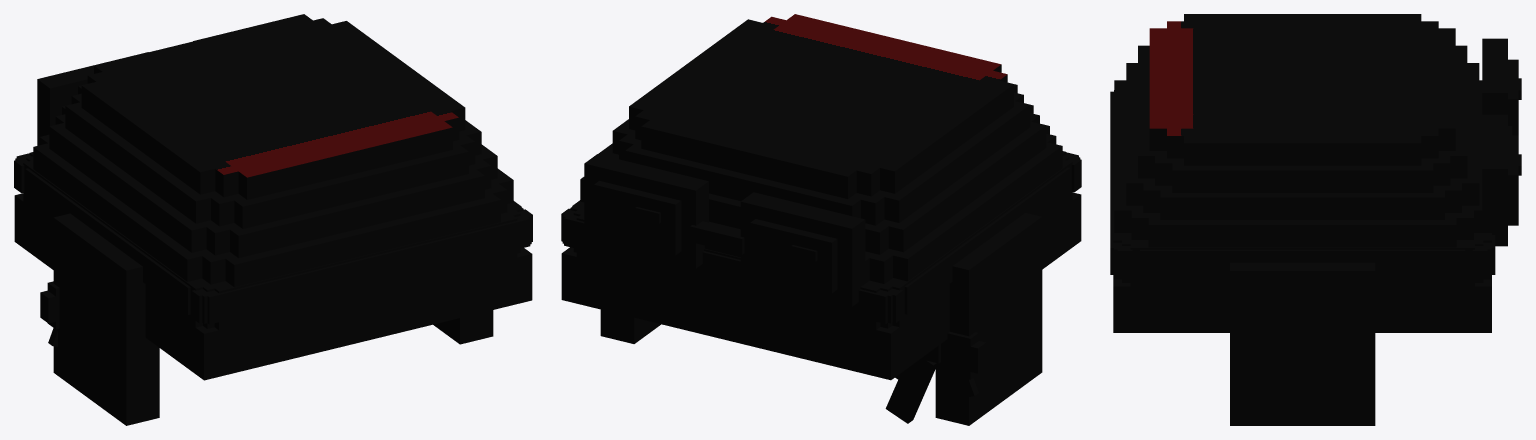
File: hat_aviator.obj
The picture shows the model from 3 angles, left to right: view 1: azimuth 30°, elevation 25°; view 2: azimuth 150°, elevation 25°; view 3: azimuth 270°, elevation 25°; orthographic projection.
Size of the model in its own units: 0.6375 by 0.4296 by 0.6012.
